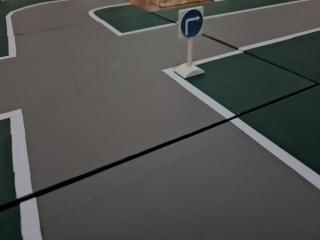right: (174, 6, 211, 41)
